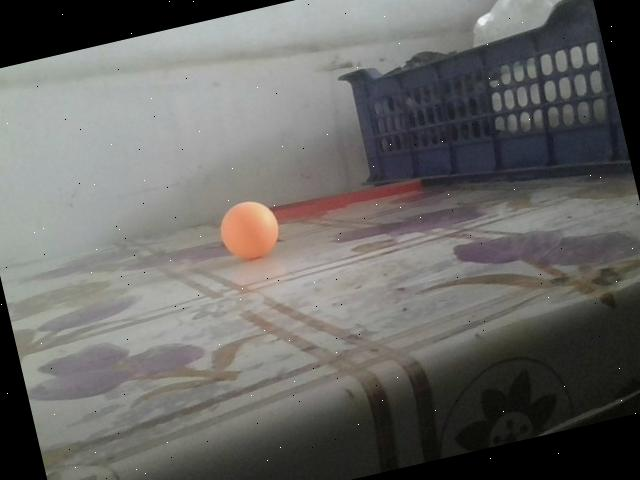ball: (215, 197, 282, 264)
